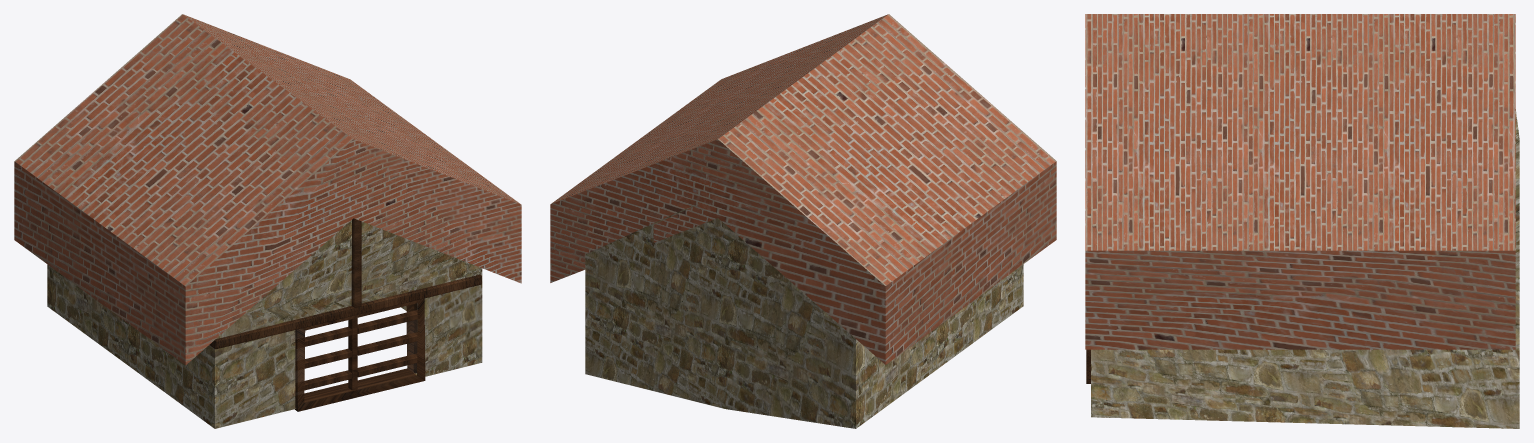
File: BuildingBalcony.fbx
The picture shows the model from 3 angles, left to right: view 1: azimuth 30°, elevation 25°; view 2: azimuth 150°, elevation 25°; view 3: azimuth 270°, elevation 25°; orthographic projection. The views are drawn at different scales.
Visible parts, largest first — view 1: BuildingBlacony; view 2: BuildingBlacony; view 3: BuildingBlacony.
Part boxes in pixels (x1,y1,x2,y2): BuildingBlacony: (14,14,521,428); BuildingBlacony: (550,14,1056,428); BuildingBlacony: (1085,14,1519,428).
Bounding box in the file's own units: 5.08 × 3.9 × 4.53.
Materials: 3 (3 with a texture image).
